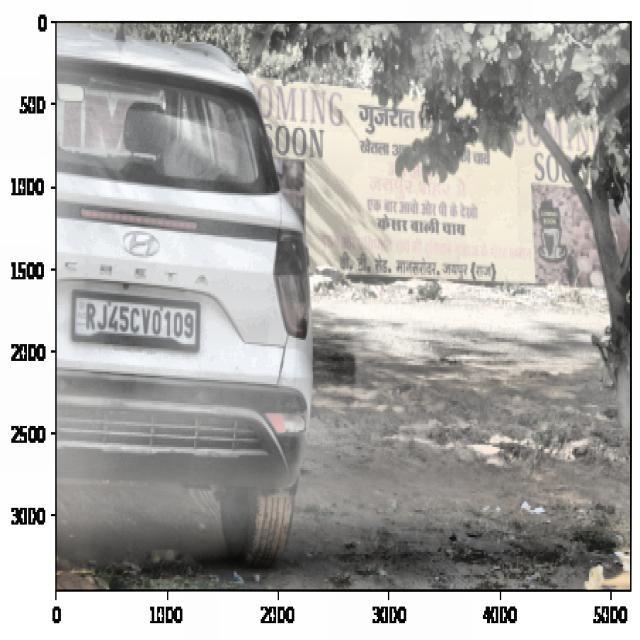license_plate: (74, 297, 198, 344)
